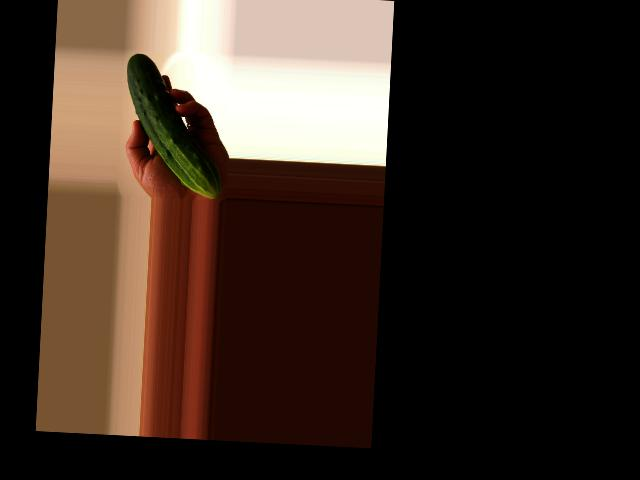cucumber: (121, 53, 228, 198)
